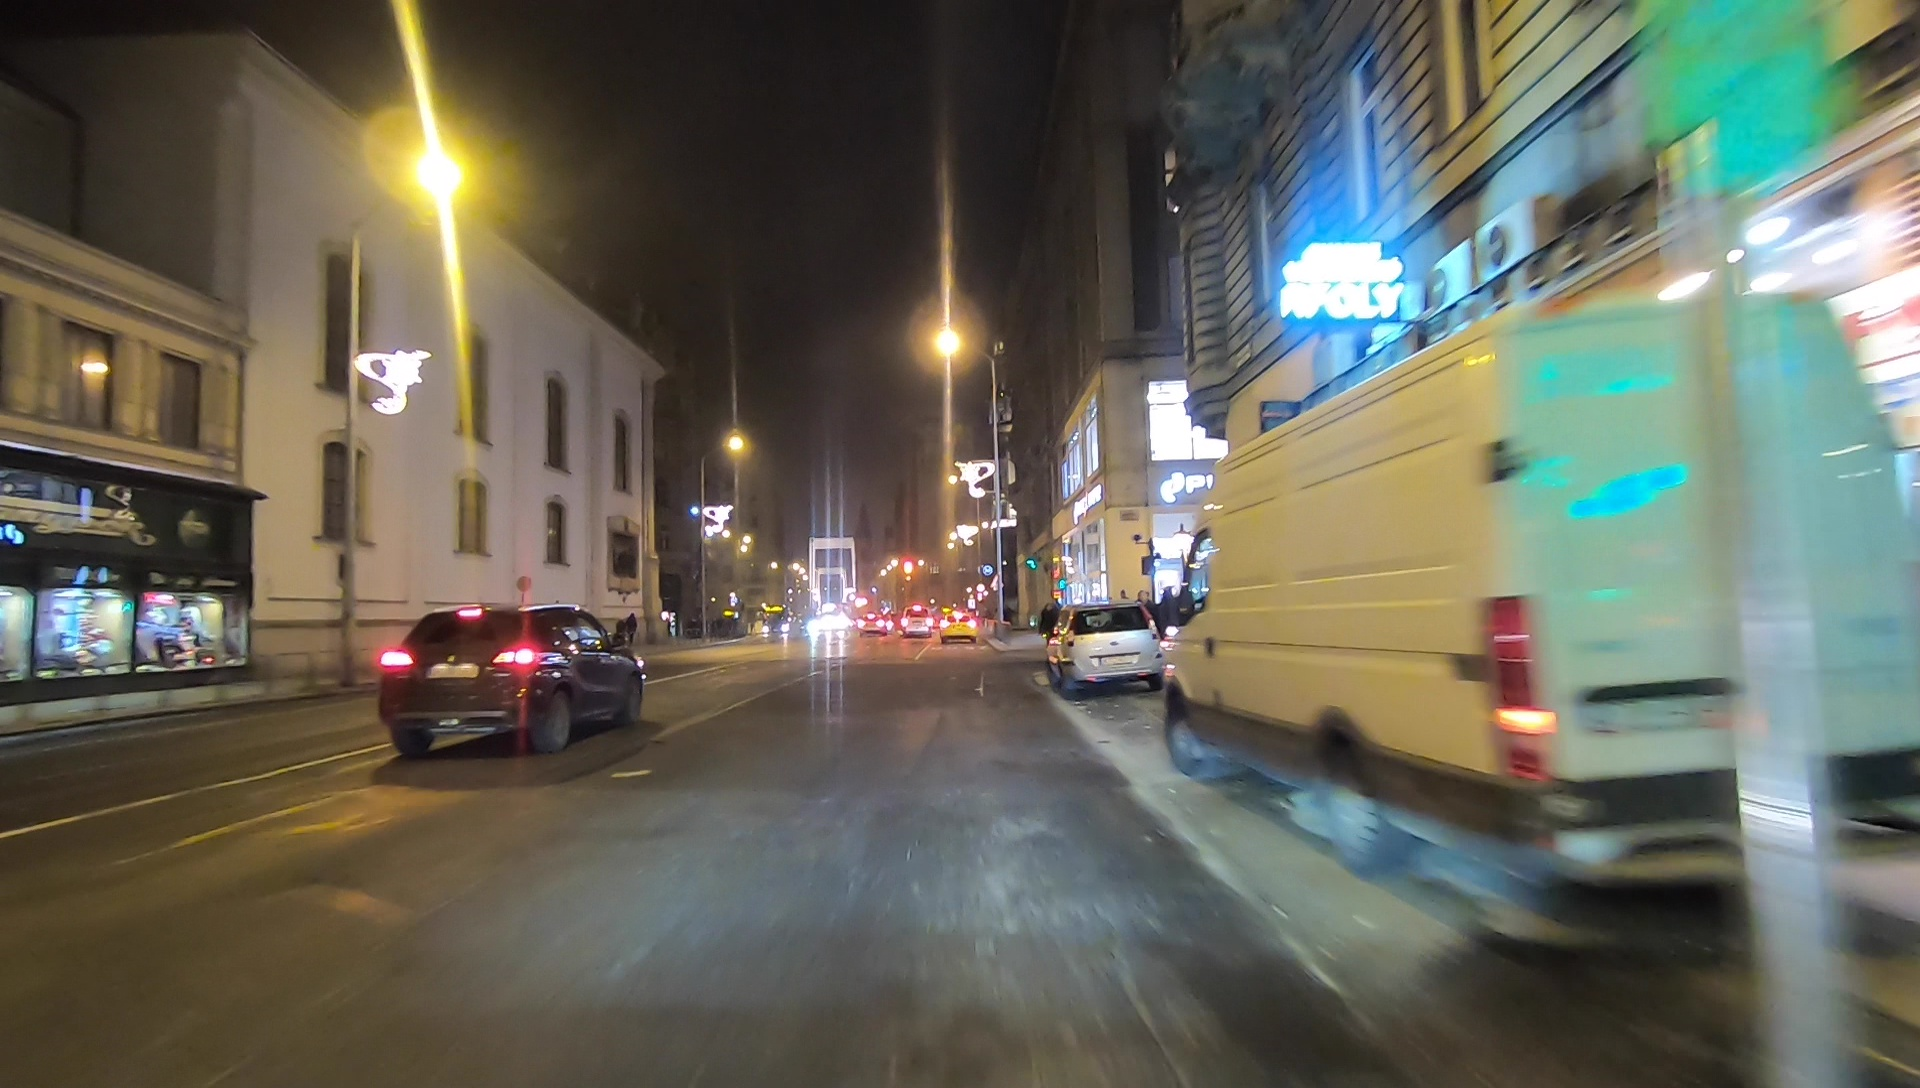person: (1041, 601, 1054, 649), (625, 611, 637, 648)
